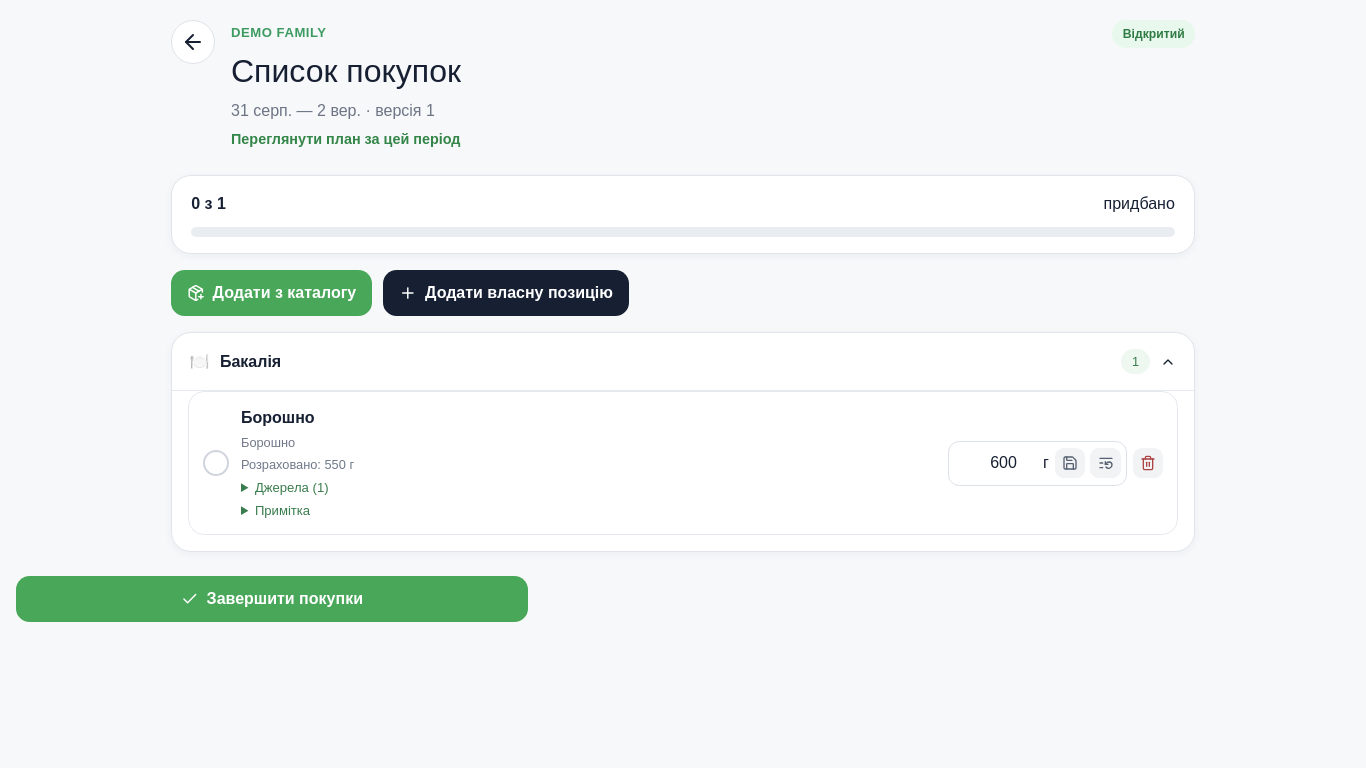
Test: shopping list UI › rounds quantity to a whole number and refreshes it after reset
Check: the number field named "Кількість Борошно" holds "600", box [954,446,1038,481]
Check: the text "Розраховано: 550 г" is shown, box [241,457,354,472]
Click the button named "Повернути розраховану кількість Борошно": point(1106, 463) [1090,448,1121,478]
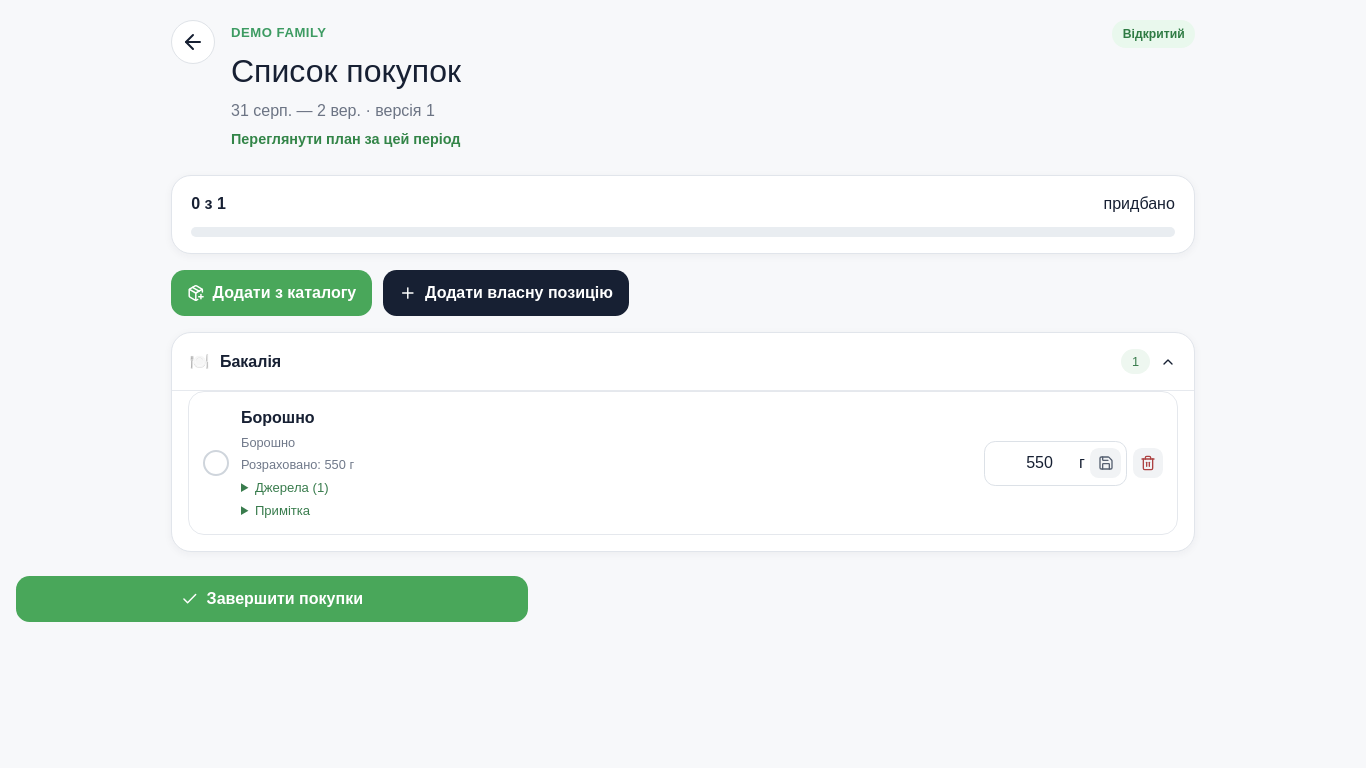
Check: the number field named "Кількість Борошно" holds "550", box [990,446,1074,481]
